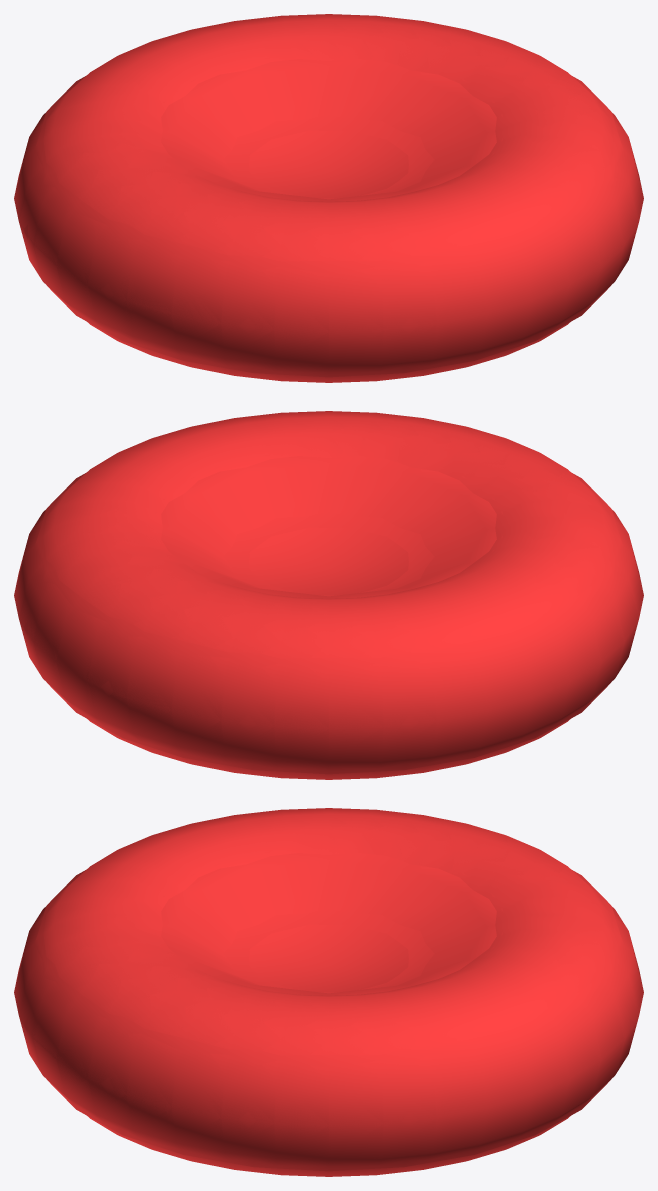
Rendered from BloodCell_MODEL_0810_triangle.obj.
3 views of the same model, one above another, from view 1: azimuth 30°, elevation 25°; view 2: azimuth 150°, elevation 25°; view 3: azimuth 270°, elevation 25° (orthographic).
Parts seen in each view (by area): view 1: Cell_High_Triangle, Cell_Lo_Triangle, Cell_Mid_Triangle; view 2: Cell_High_Triangle, Cell_Lo_Triangle, Cell_Mid_Triangle; view 3: Cell_High_Triangle, Cell_Lo_Triangle, Cell_Mid_Triangle.
Part boxes in pixels (left/top/right/bottom): Cell_High_Triangle: left=14, top=14, right=643, bottom=382; Cell_Lo_Triangle: left=161, top=59, right=496, bottom=201; Cell_Mid_Triangle: left=23, top=23, right=634, bottom=377; Cell_High_Triangle: left=14, top=411, right=643, bottom=779; Cell_Lo_Triangle: left=161, top=456, right=496, bottom=598; Cell_Mid_Triangle: left=23, top=420, right=634, bottom=774; Cell_High_Triangle: left=14, top=808, right=643, bottom=1176; Cell_Lo_Triangle: left=161, top=853, right=496, bottom=995; Cell_Mid_Triangle: left=23, top=817, right=634, bottom=1171.
Size of the model in its own units: 8 by 2.2 by 8.
